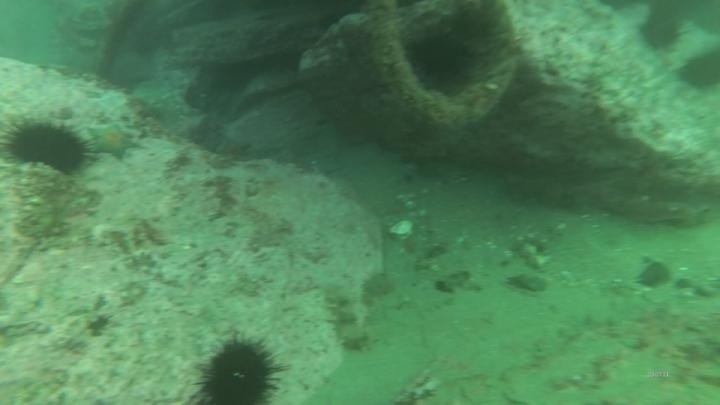echinus: (194, 332, 284, 405), (3, 114, 93, 177), (404, 27, 478, 94), (637, 7, 685, 53), (677, 46, 720, 94)
holothurian: (320, 279, 374, 354)
starfish: (86, 122, 142, 162)
